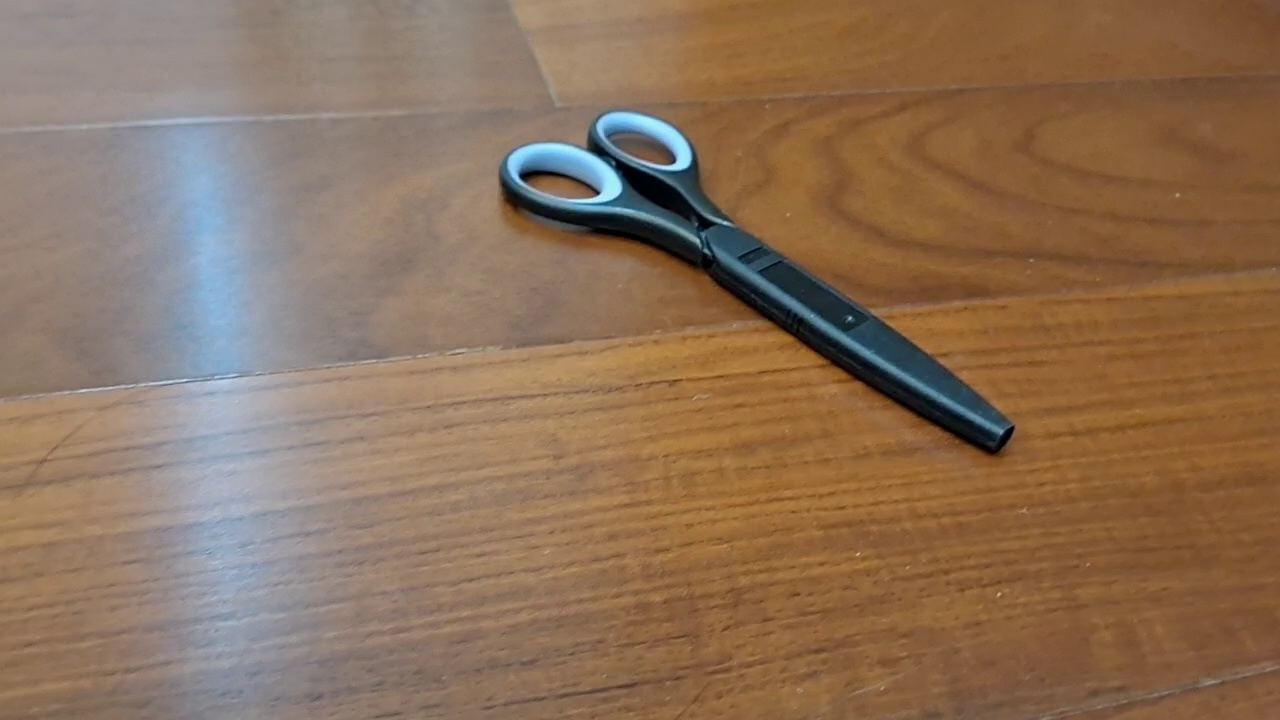scissors: (497, 108, 1017, 457)
